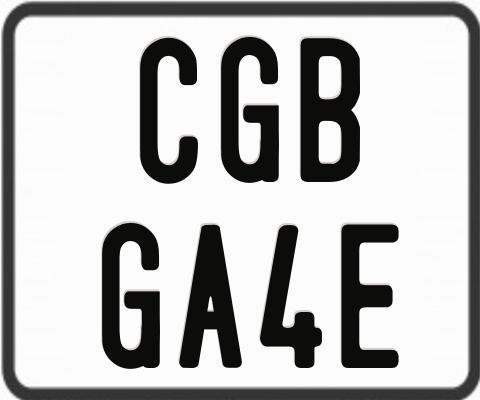4: (257, 222, 323, 365)
A: (179, 223, 247, 367)
B: (298, 38, 359, 185)
C: (140, 35, 198, 184)
E: (341, 221, 403, 367)
G: (101, 223, 160, 374), (220, 35, 279, 185)
